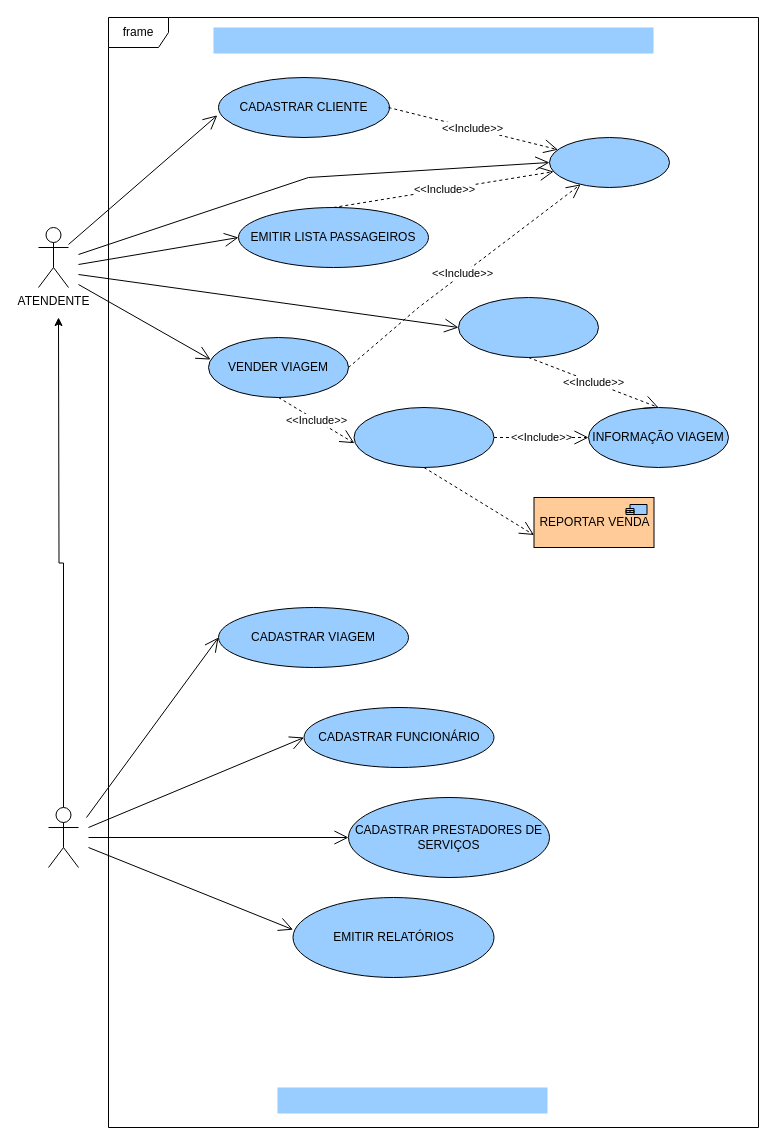
This 776x1145 diagram has some shape labels left out. The shapes that lost their labels are listed below. From the top down, each one's box as (x1, y1, x2, y2) in pixels, then its label:
(213, 27, 653, 53): DIAGRAMA DE CASO DE USO DETALHADO - MICHELE VIAGENS E TURISMO
(548, 136, 670, 188): LOGIN
(458, 296, 598, 358): CONSULTAR VIAGEM
(353, 406, 494, 468): REGISTRAR VENDA
(48, 806, 78, 868): GESTOR
(277, 1087, 547, 1113): CRIADO POR - ALEXANDRE DIMAS
